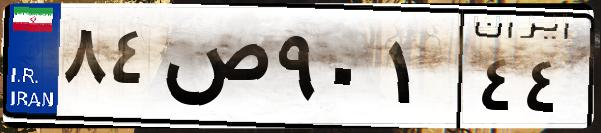0: (330, 28, 385, 110)
1: (385, 28, 445, 110)
4: (475, 38, 525, 113), (525, 38, 570, 115), (110, 28, 158, 98)
8: (57, 26, 110, 100)
9: (270, 28, 330, 110)
ص: (158, 20, 270, 120)
